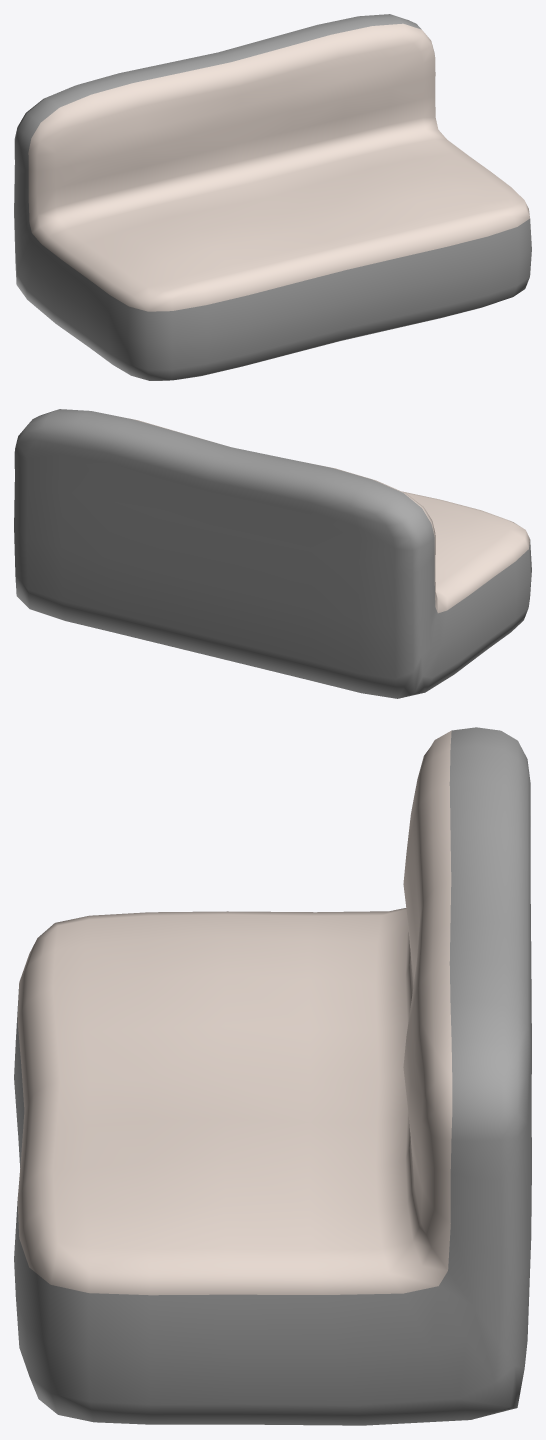
Rendered from Chair_Couch_3.glb.
3 views of the same model, one above another, from view 1: azimuth 30°, elevation 25°; view 2: azimuth 150°, elevation 25°; view 3: azimuth 270°, elevation 25° (orthographic). The views are drawn at different scales.
Parts seen in each view (by area): view 1: Couch_3; view 2: Couch_3; view 3: Couch_3.
Part boxes in pixels (box(x1,y1,x2,y2)): Couch_3: box(14, 14, 531, 380); Couch_3: box(14, 409, 531, 698); Couch_3: box(14, 727, 531, 1425).
Size of the model in its own units: 2.32 by 1.12 by 1.36.
Materials: 1 (1 with a texture image).
